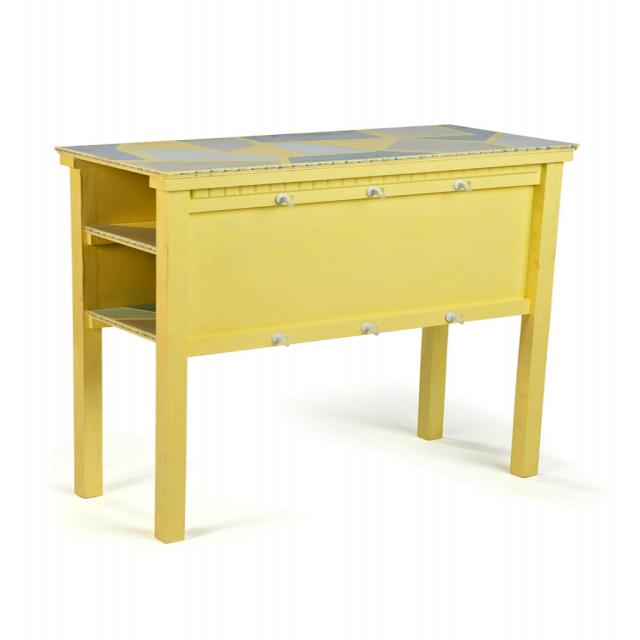desk: (58, 125, 581, 544)
